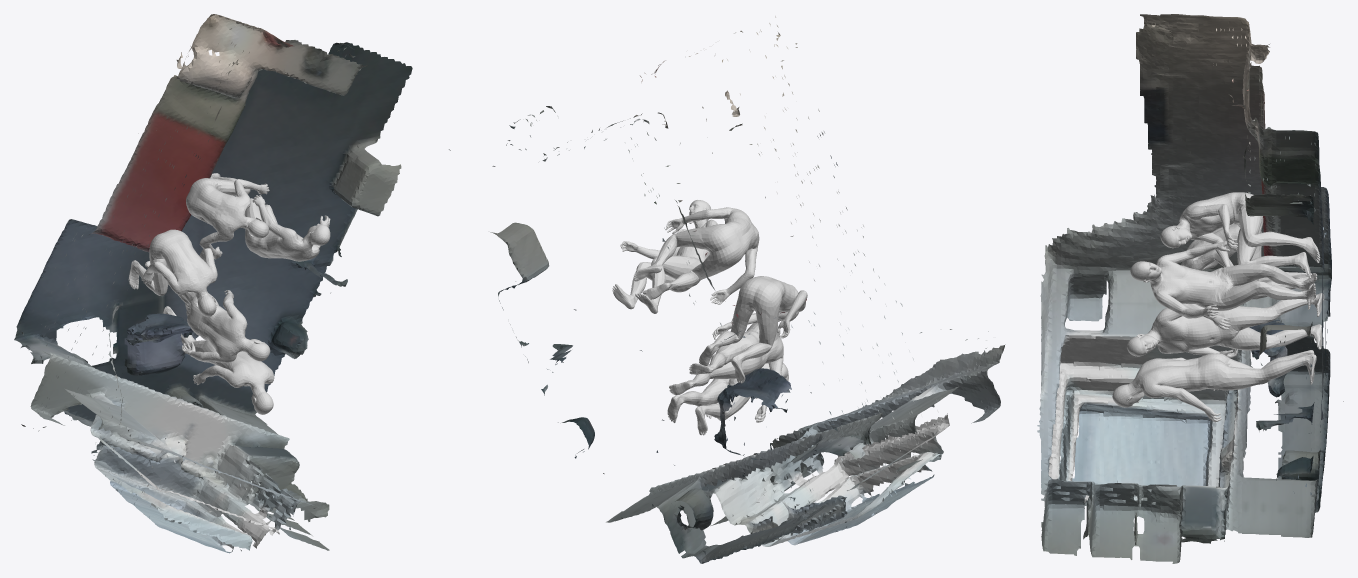
Rendered from pose.glb.
3 views of the same model, side by side, from view 1: azimuth 30°, elevation 25°; view 2: azimuth 150°, elevation 25°; view 3: azimuth 270°, elevation 25° (orthographic). The views are drawn at different scales.
Parts seen in each view (by area): view 1: scene_downsample.ply, body005.ply, body000.ply, body004.ply, body012.ply, body019.ply; view 2: scene_downsample.ply, body000.ply, body005.ply, body012.ply, body004.ply, body019.ply; view 3: scene_downsample.ply, body012.ply, body004.ply, body019.ply, body000.ply, body005.ply.
Boxes of the visible parts, left/top/right/bottom form: scene_downsample.ply: left=14, top=14, right=412, bottom=553; body005.ply: left=128, top=229, right=217, bottom=316; body000.ply: left=186, top=173, right=269, bottom=259; body004.ply: left=145, top=261, right=270, bottom=362; body012.ply: left=236, top=195, right=330, bottom=261; body019.ply: left=162, top=303, right=274, bottom=414; scene_downsample.ply: left=449, top=16, right=1005, bottom=563; body000.ply: left=633, top=207, right=759, bottom=304; body005.ply: left=699, top=276, right=807, bottom=383; body012.ply: left=612, top=200, right=717, bottom=313; body004.ply: left=669, top=313, right=783, bottom=398; body019.ply: left=667, top=363, right=788, bottom=435; scene_downsample.ply: left=1037, top=14, right=1343, bottom=563; body012.ply: left=1130, top=241, right=1317, bottom=318; body004.ply: left=1127, top=293, right=1324, bottom=358; body019.ply: left=1112, top=350, right=1316, bottom=421; body000.ply: left=1160, top=192, right=1320, bottom=278; body005.ply: left=1181, top=223, right=1314, bottom=309.
Size of the model in its own units: 4.62 by 4.98 by 2.62.
